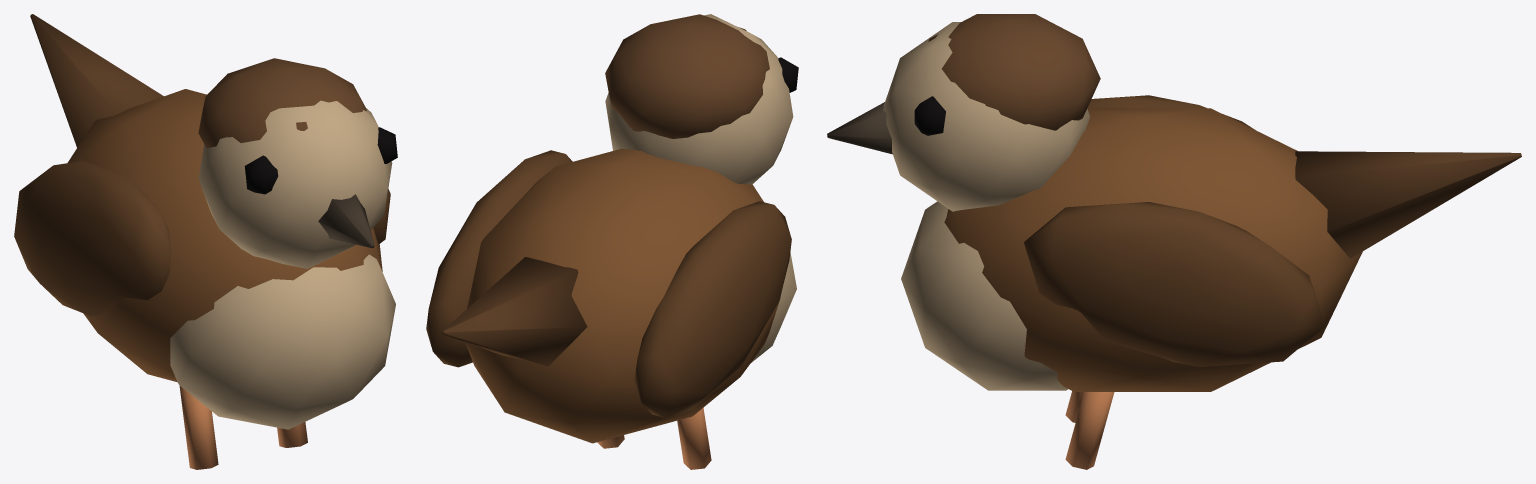
File: sparrow.glb
3 views of the same model, side by side, from view 1: azimuth 30°, elevation 25°; view 2: azimuth 150°, elevation 25°; view 3: azimuth 270°, elevation 25° (orthographic). The views are drawn at different scales.
Visible parts, largest first — view 1: sparrow.body, sparrow.head; view 2: sparrow.body, sparrow.head; view 3: sparrow.body, sparrow.head.
Part boxes in pixels (bbox=[...]): sparrow.body: bbox=[14, 14, 395, 469]; sparrow.head: bbox=[198, 58, 397, 268]; sparrow.body: bbox=[426, 148, 796, 469]; sparrow.head: bbox=[605, 14, 798, 184]; sparrow.body: bbox=[901, 95, 1521, 469]; sparrow.head: bbox=[827, 14, 1100, 211].
Bounding box in the file's own units: 0.3161 × 0.4434 × 0.6607.
